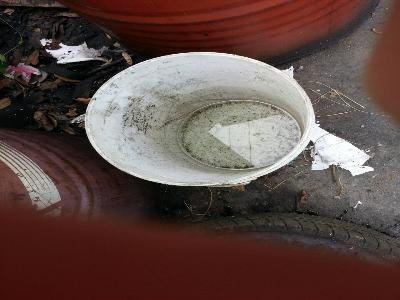bucket: (84, 50, 319, 190)
